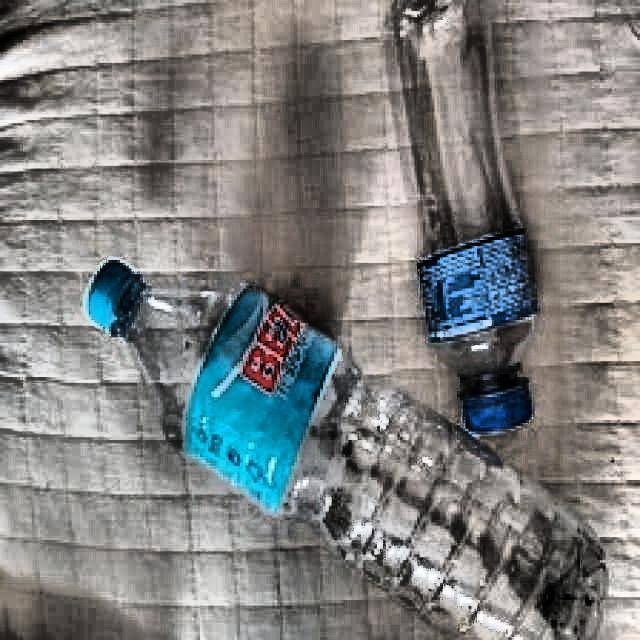plastic bottle: (84, 259, 609, 640), (377, 0, 540, 435)
